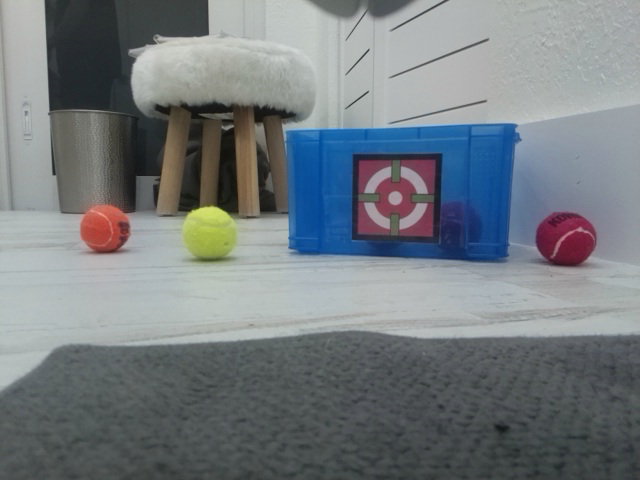drop-bin: (351, 153, 443, 243)
orange-ball: (78, 203, 131, 255)
red-ball: (535, 211, 598, 267)
yellow-ball: (180, 205, 239, 261)
